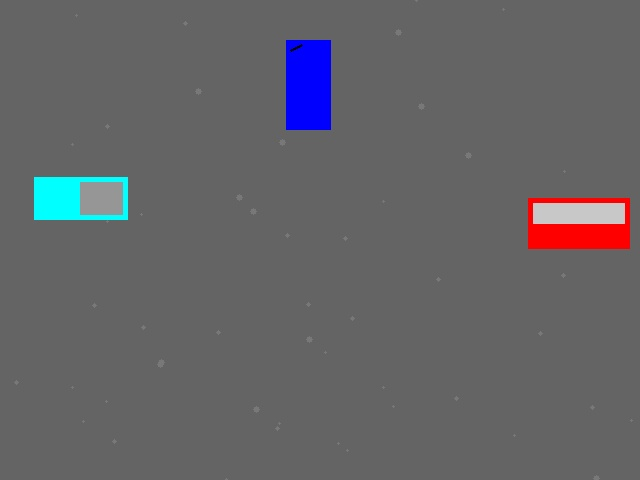car: (528, 198, 629, 248)
motorcycle: (286, 40, 330, 129)
truck: (34, 177, 127, 219)
